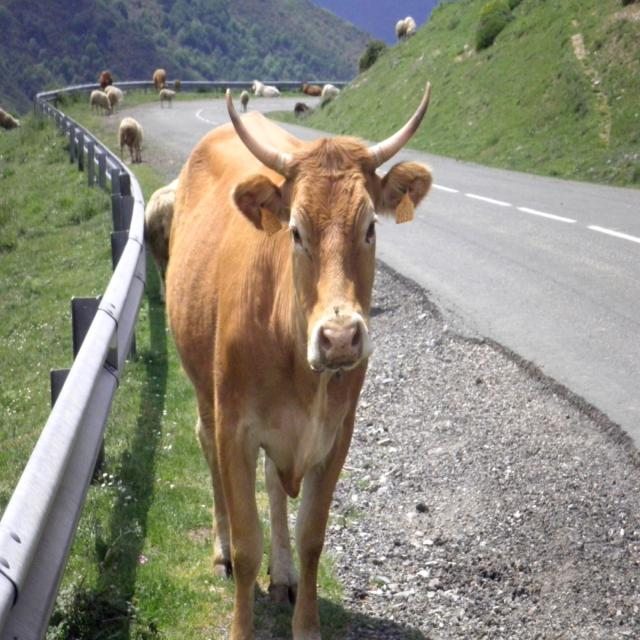cow: (166, 87, 432, 638)
